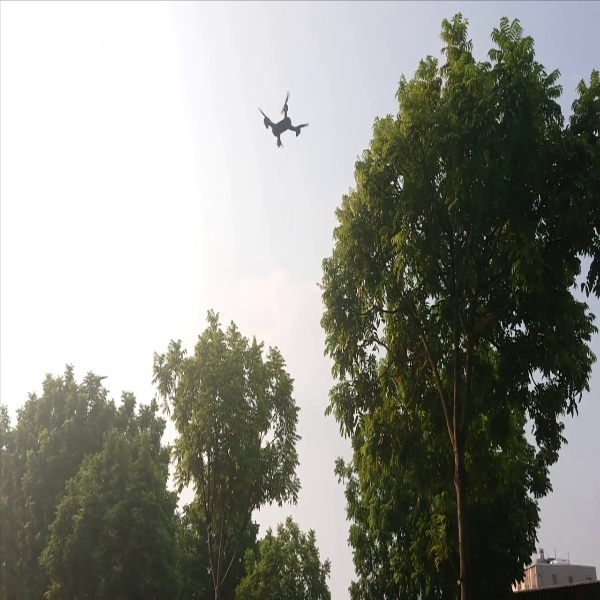drone: (256, 92, 312, 151)
